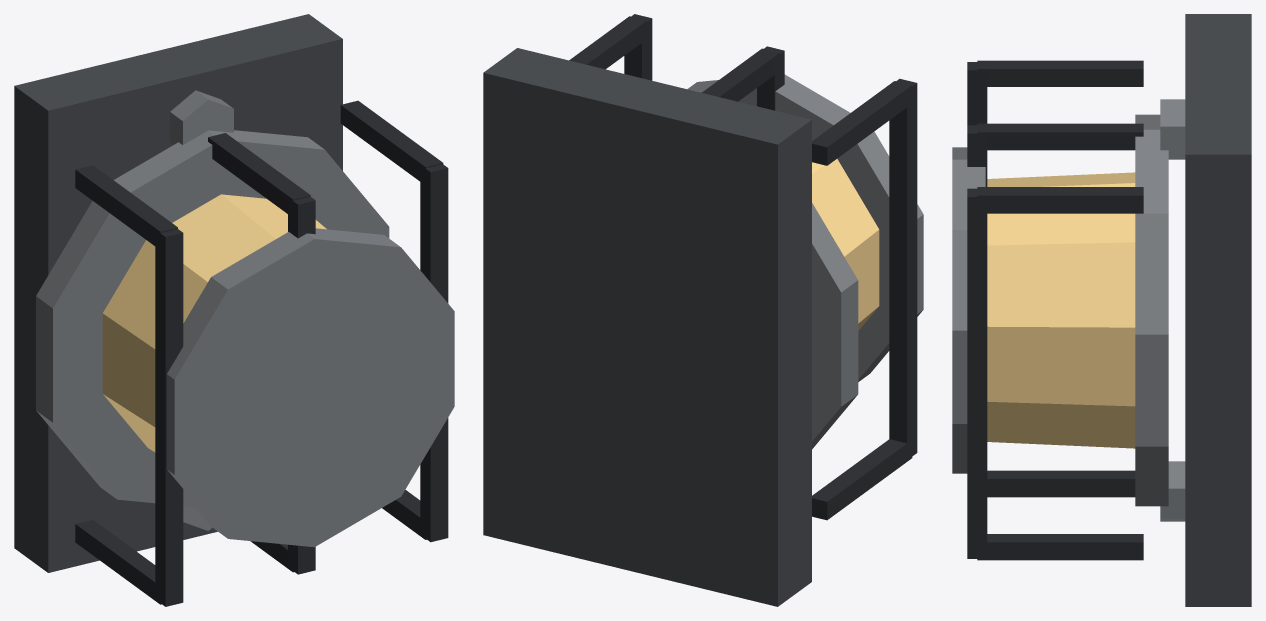
The model's file is bunker_bulkhead_lamp.fbx.
3 renders of one model, left to right at view 1: azimuth 30°, elevation 25°; view 2: azimuth 150°, elevation 25°; view 3: azimuth 270°, elevation 25°, orthographic. The views are drawn at different scales.
Parts seen in each view (by area): view 1: bunker_bulkhead_lamp; view 2: bunker_bulkhead_lamp; view 3: bunker_bulkhead_lamp.
Part boxes in pixels (x1,y1,x2,y2): bunker_bulkhead_lamp: [14, 14, 454, 606]; bunker_bulkhead_lamp: [483, 14, 923, 606]; bunker_bulkhead_lamp: [952, 14, 1251, 606].
Bounding box in the file's own units: 0.2283 × 0.3 × 0.18.
